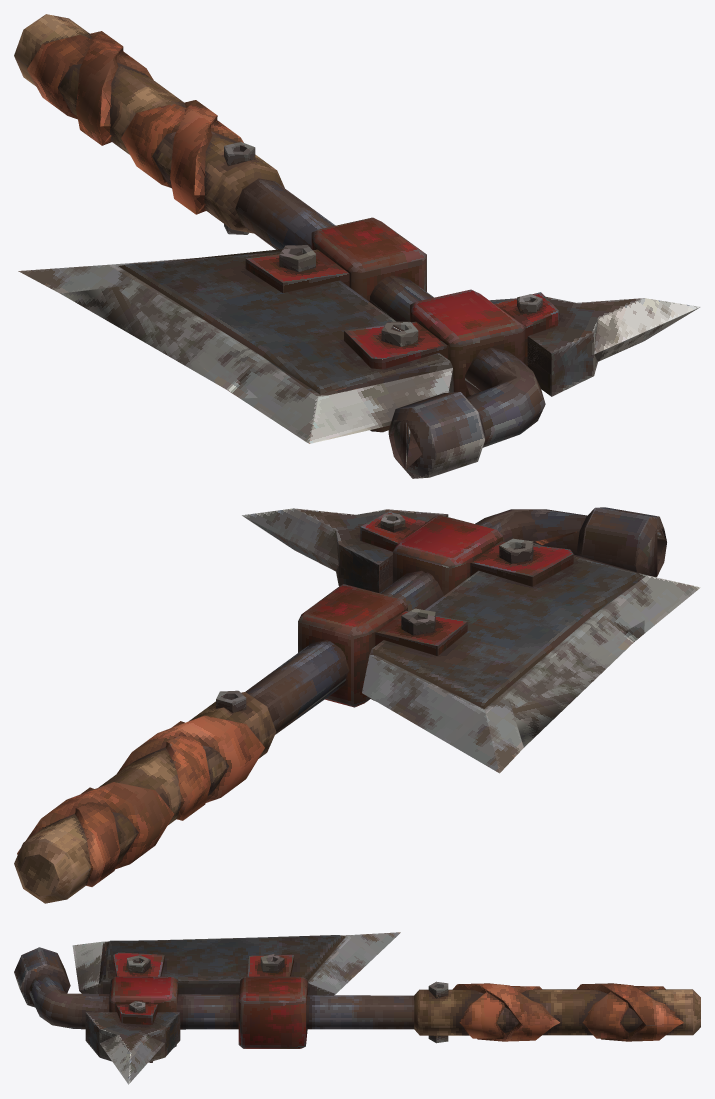
Rendered from item_axe.glb.
3 renders of one model, top to bottom at view 1: azimuth 30°, elevation 25°; view 2: azimuth 150°, elevation 25°; view 3: azimuth 270°, elevation 25°, orthographic. The views are drawn at different scales.
Visible parts, largest first — view 1: Axe; view 2: Axe; view 3: Axe.
Boxes of the visible parts, x1,y1,x2,y2 form: Axe: [14, 14, 700, 478]; Axe: [14, 507, 700, 903]; Axe: [14, 932, 700, 1084].
Bounding box in the file's own units: 0.612 × 0.1158 × 1.16.
Materials: 1 (1 with a texture image).
